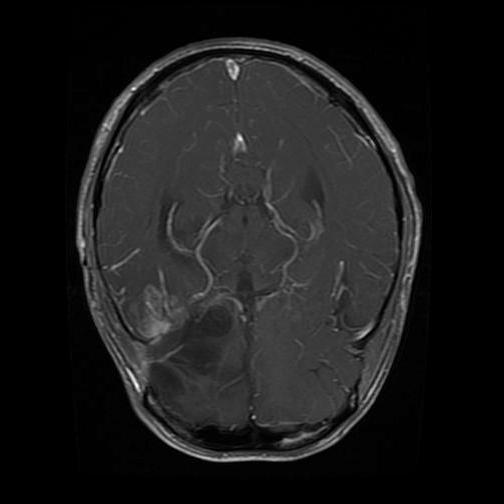Tumour-Glioma: (162, 292, 246, 389)
